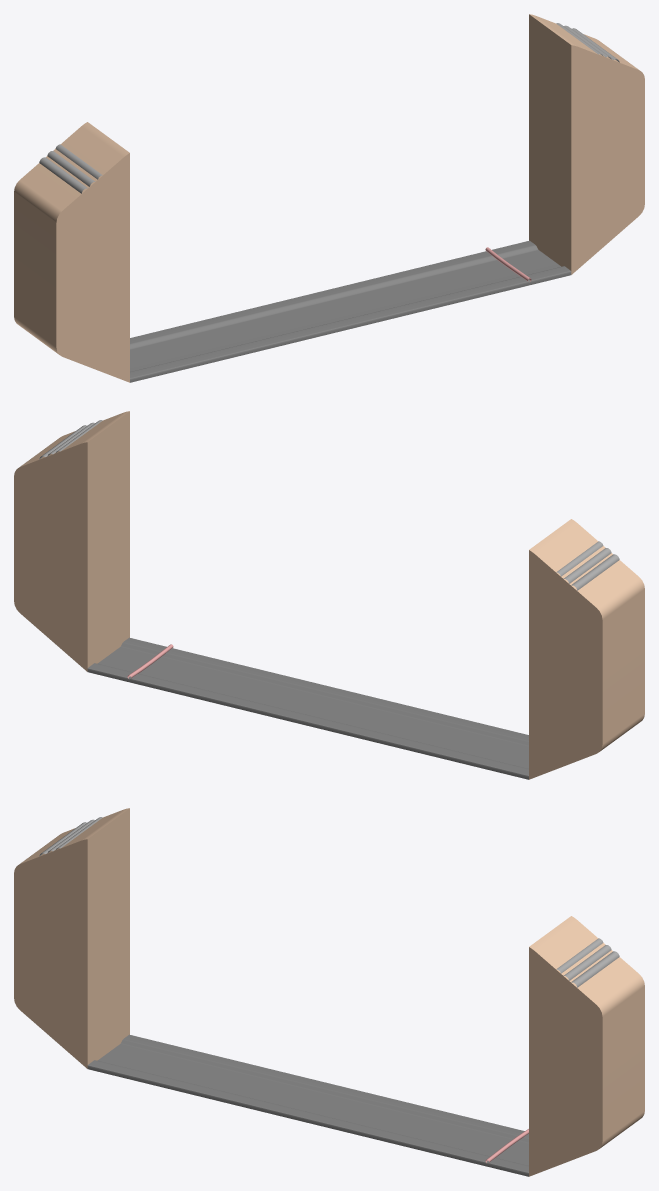
File: MOD_1b.fbx
3 renders of one model, top to bottom at view 1: azimuth 30°, elevation 25°; view 2: azimuth 150°, elevation 25°; view 3: azimuth 330°, elevation 25°, orthographic.
Parts seen in each view (by area): view 1: MOD_1b; view 2: MOD_1b; view 3: MOD_1b.
Part boxes in pixels (x1=…): MOD_1b: x1=14, y1=14, x2=644, y2=382; MOD_1b: x1=14, y1=411, x2=644, y2=779; MOD_1b: x1=14, y1=808, x2=644, y2=1176.
Size of the model in its own units: 8 by 2.99 by 1.
